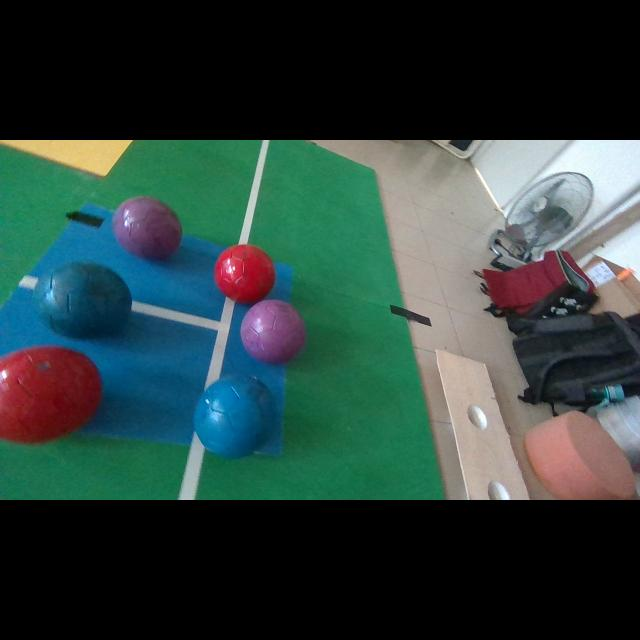B: (34, 261, 131, 339), (194, 375, 276, 459)
P: (112, 198, 182, 258), (240, 300, 305, 364)
R: (0, 345, 102, 442), (215, 245, 275, 303)
